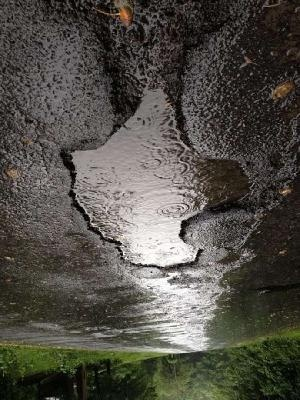pothole: (56, 91, 254, 275)
